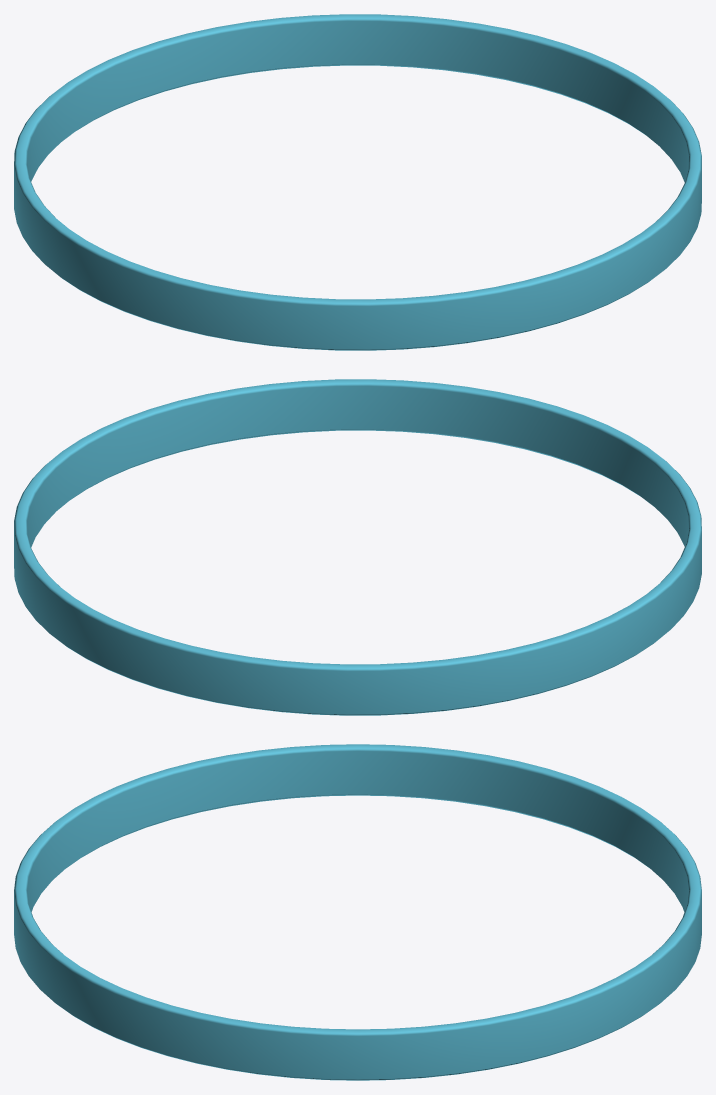
3 views of the same model, one above another, from view 1: azimuth 30°, elevation 25°; view 2: azimuth 150°, elevation 25°; view 3: azimuth 270°, elevation 25° (orthographic).
Parts seen in each view (by area): view 1: seal_body; view 2: seal_body; view 3: seal_body.
Boxes of the visible parts, x1=… form: seal_body: x1=14, y1=14, x2=701, y2=350; seal_body: x1=14, y1=379, x2=701, y2=715; seal_body: x1=14, y1=744, x2=701, y2=1080.
Size of the model in its own units: 0.1651 by 0.0127 by 0.1651.
